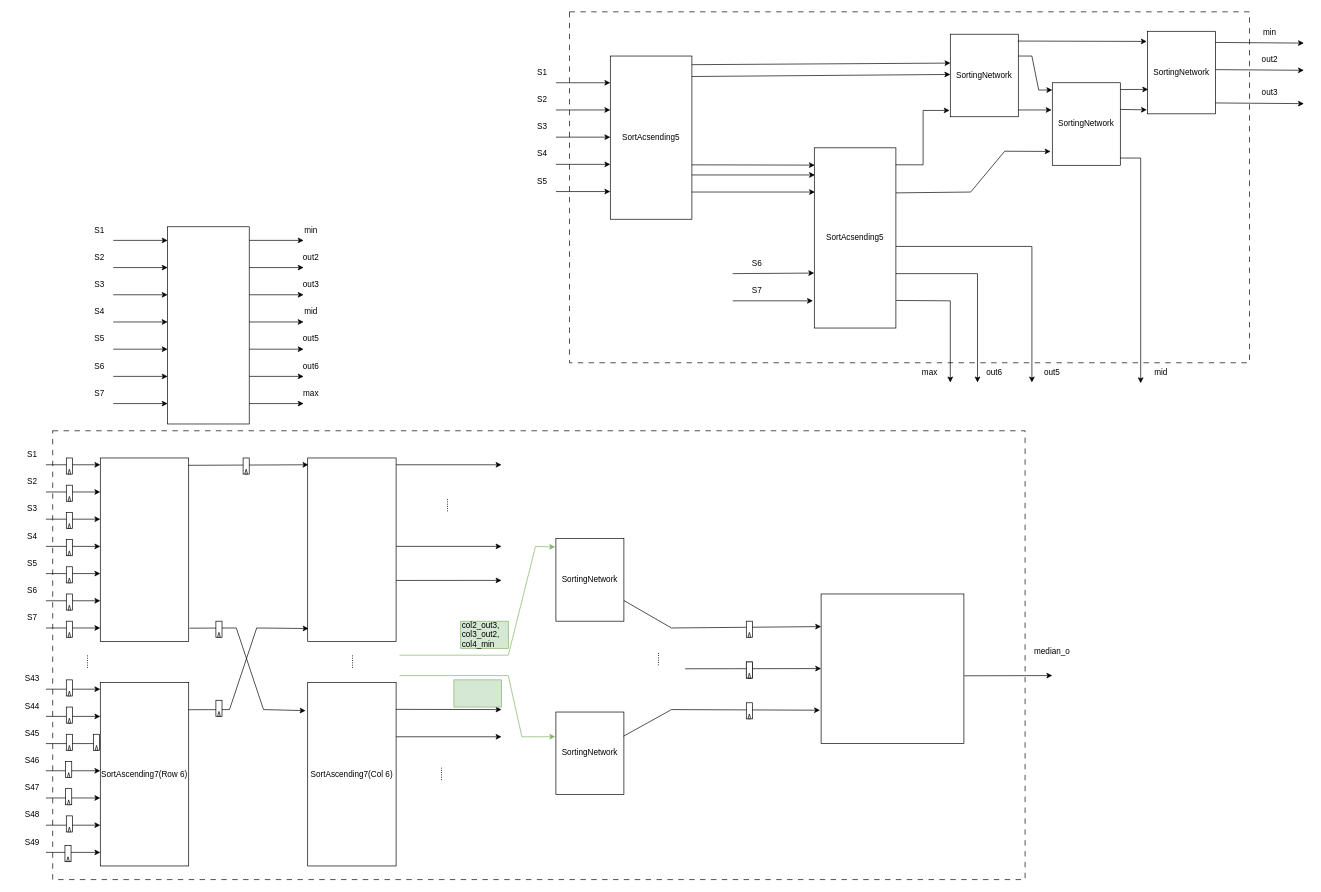
This 1321x892 diagram has some shape labels left out. The centre of each missing label's shape, as x and y in pixels:
"col2_max, col3_out6, col4_out5" belongs at [477,693].
"Median_5x5_calc" belongs at [892,668].
"SortAscending7" belongs at [208,325].
"SortAscending7(Col 0)" belongs at [351,549].
"SortAscending7(Row 0)" belongs at [144,549].
